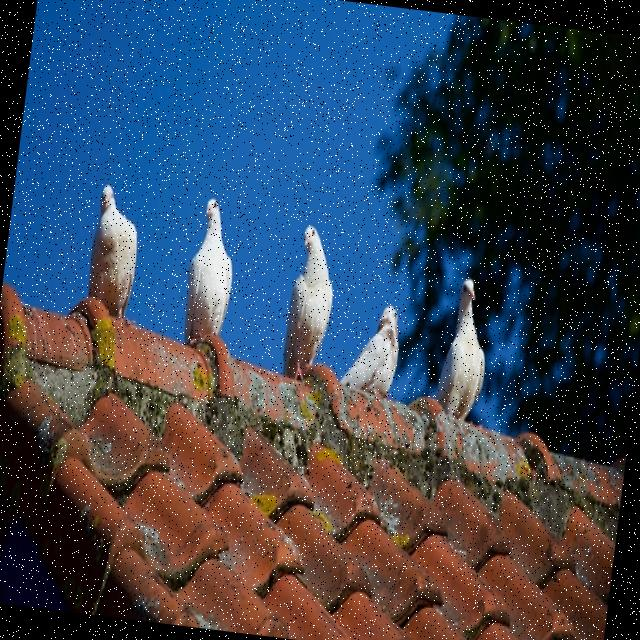bird: (174, 195, 242, 388), (279, 223, 342, 384), (432, 276, 496, 424), (84, 183, 146, 321), (337, 300, 404, 400)
